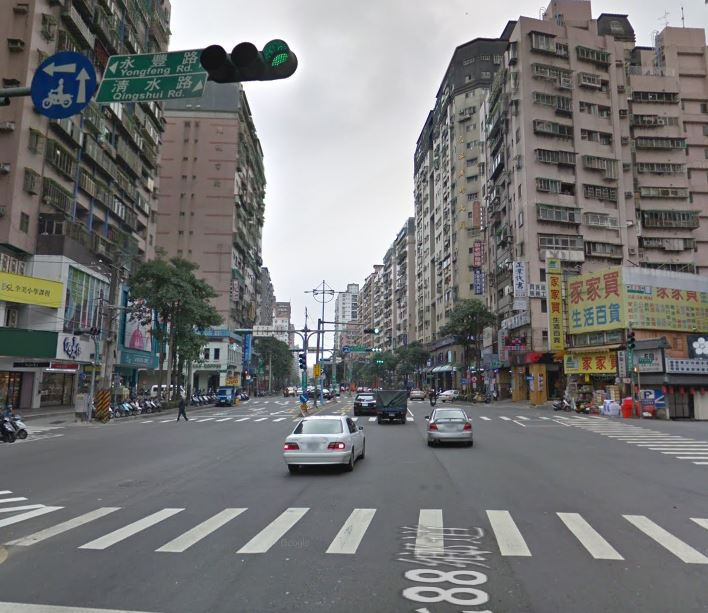Traffic_light_green: (203, 42, 299, 85)
car: (283, 408, 368, 474), (426, 403, 475, 449)
